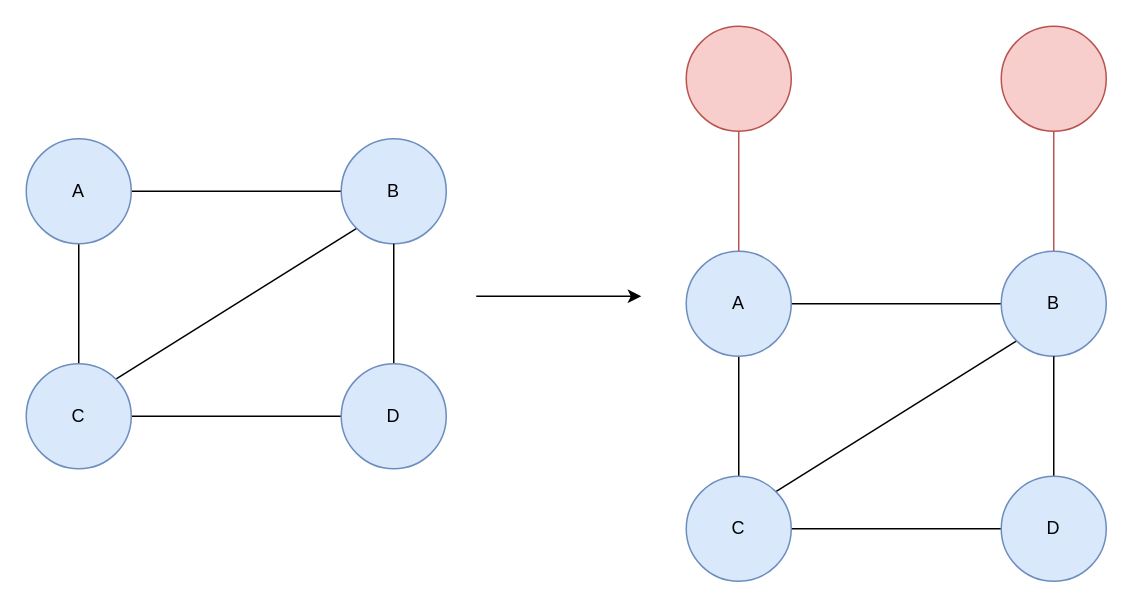
This 1133x608 diagram has some shape labels left out. Each missing label, with the centre of its shape:
"A'" goes at point (738, 78).
"B'" goes at point (1053, 78).
